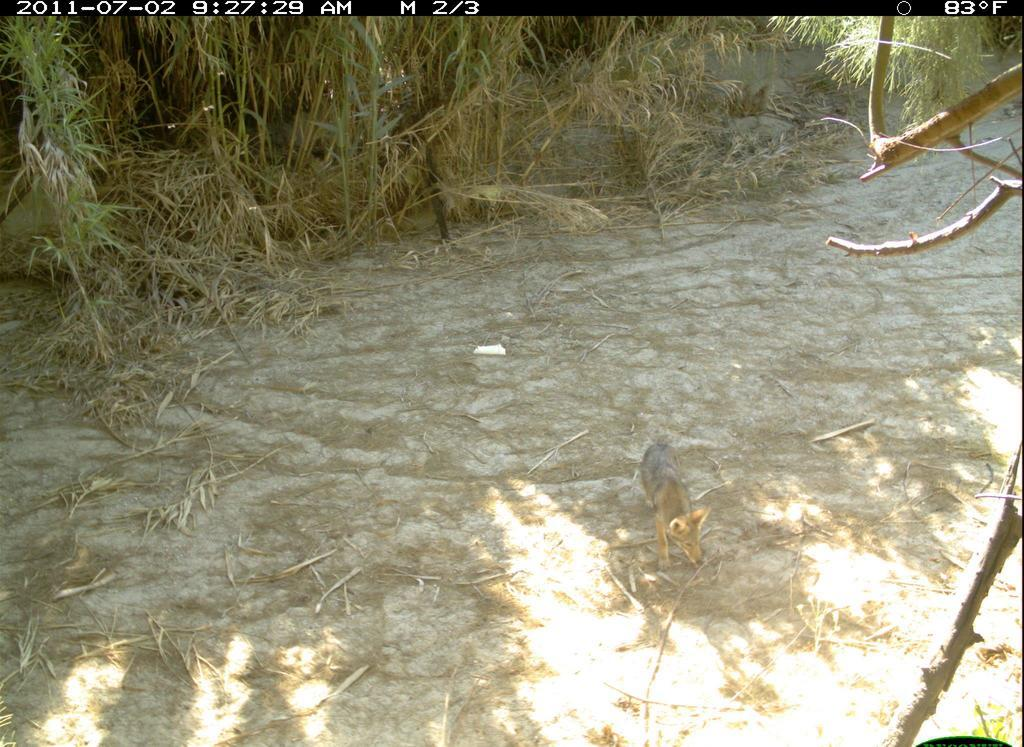coyote: (638, 441, 716, 574)
